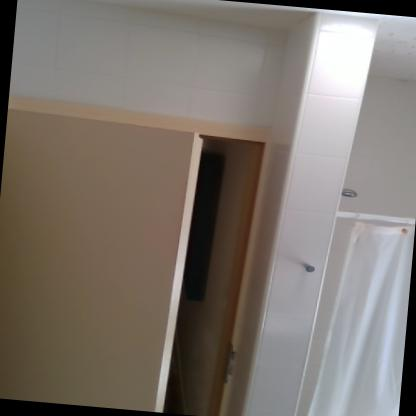semi: (0, 89, 299, 415)
